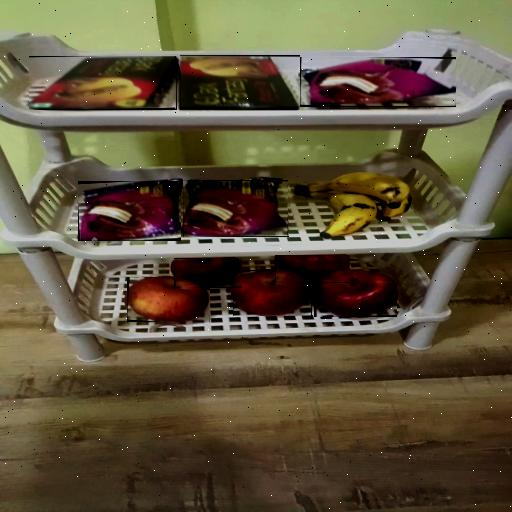Apple: (314, 271, 397, 317), (127, 278, 210, 324), (233, 270, 312, 316), (275, 256, 350, 284), (174, 258, 242, 288)
Choco Fills: (30, 56, 178, 110), (180, 55, 300, 110)
Choco Pie: (300, 57, 456, 107), (78, 181, 181, 241), (184, 180, 290, 237)
